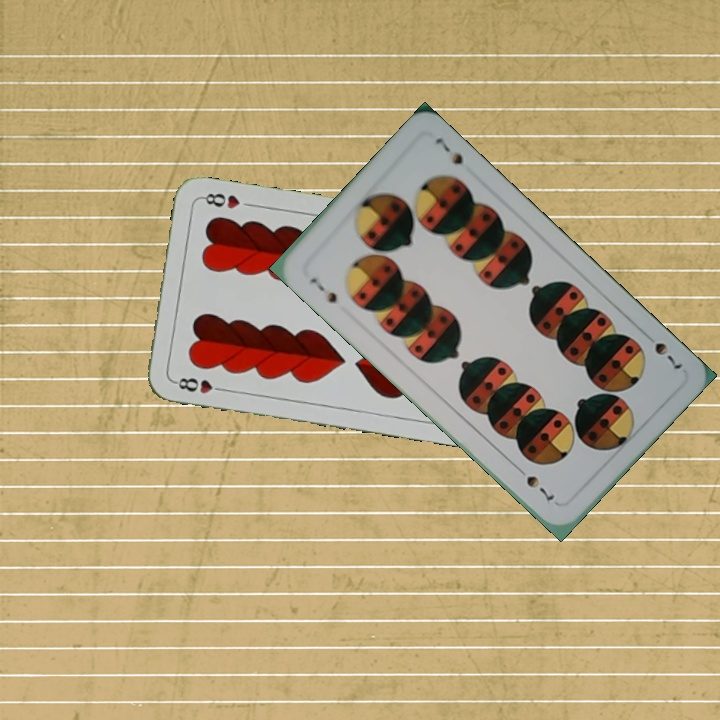H8: (170, 373, 229, 396)
S7: (650, 338, 685, 372), (305, 273, 340, 306)
